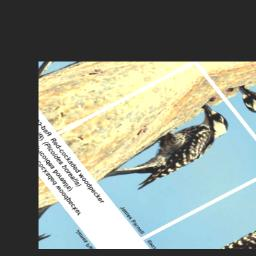Woodpecker: (90, 99, 243, 202)
